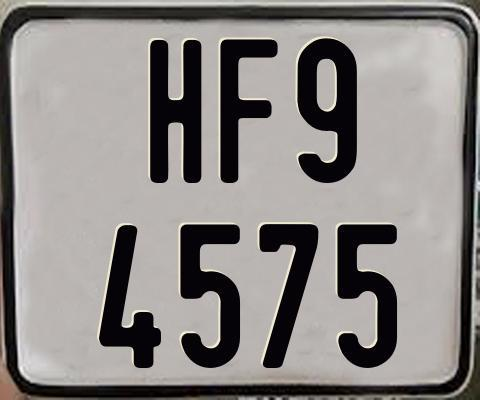4: (98, 224, 162, 367)
5: (335, 224, 400, 374), (178, 223, 243, 367)
7: (259, 224, 320, 368)
9: (294, 36, 359, 187)
F: (217, 38, 277, 184)
H: (147, 40, 201, 183)
